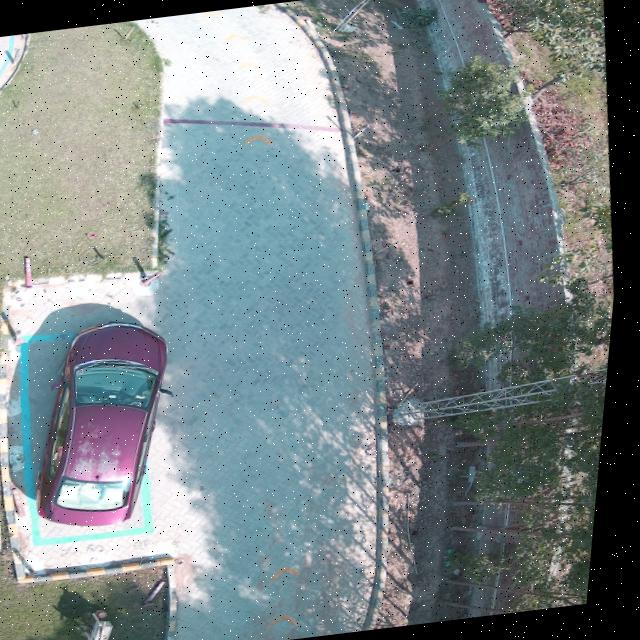car: (45, 322, 172, 526)
